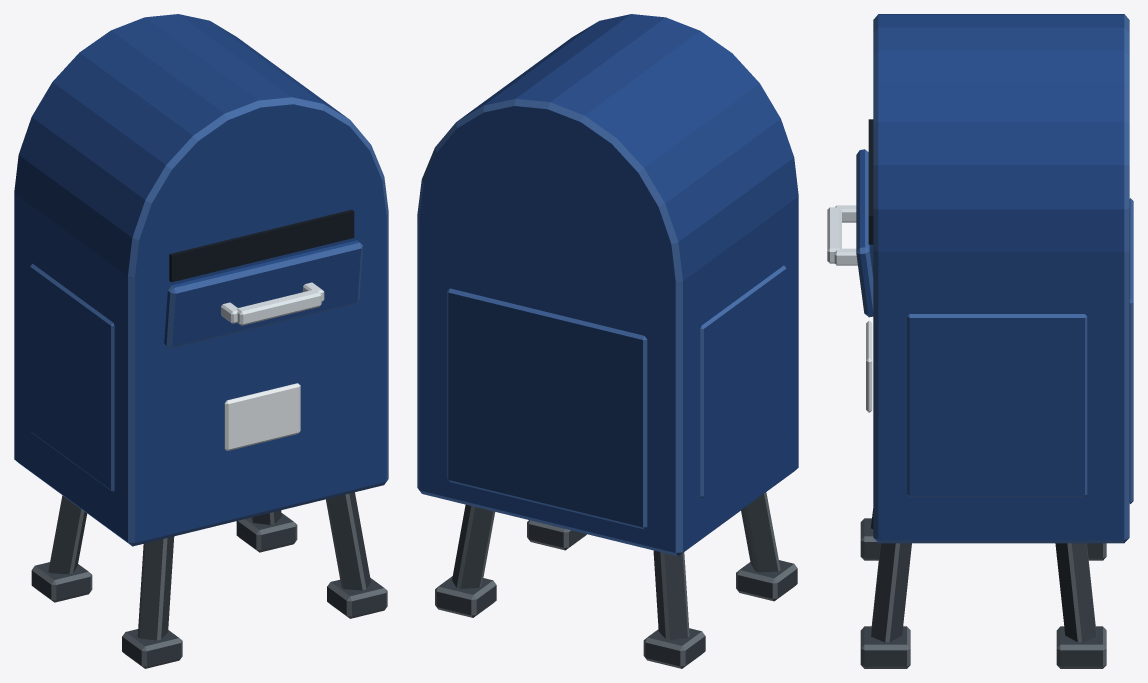
The model's file is mailbox_classic_usps.fbx.
The picture shows the model from 3 angles, left to right: view 1: azimuth 30°, elevation 25°; view 2: azimuth 150°, elevation 25°; view 3: azimuth 270°, elevation 25°; orthographic projection. The views are drawn at different scales.
Parts seen in each view (by area): view 1: Mailbox_Classic; view 2: Mailbox_Classic; view 3: Mailbox_Classic.
Boxes of the visible parts, x1,y1,x2,y2 form: Mailbox_Classic: (14,14,388,668); Mailbox_Classic: (417,14,798,668); Mailbox_Classic: (827,14,1133,668).
Size of the model in its own units: 260 by 500 by 240.
